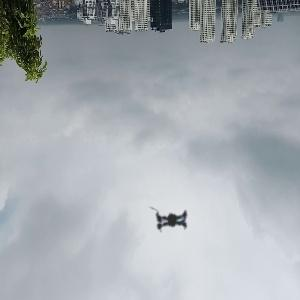drone: (133, 180, 217, 264)
